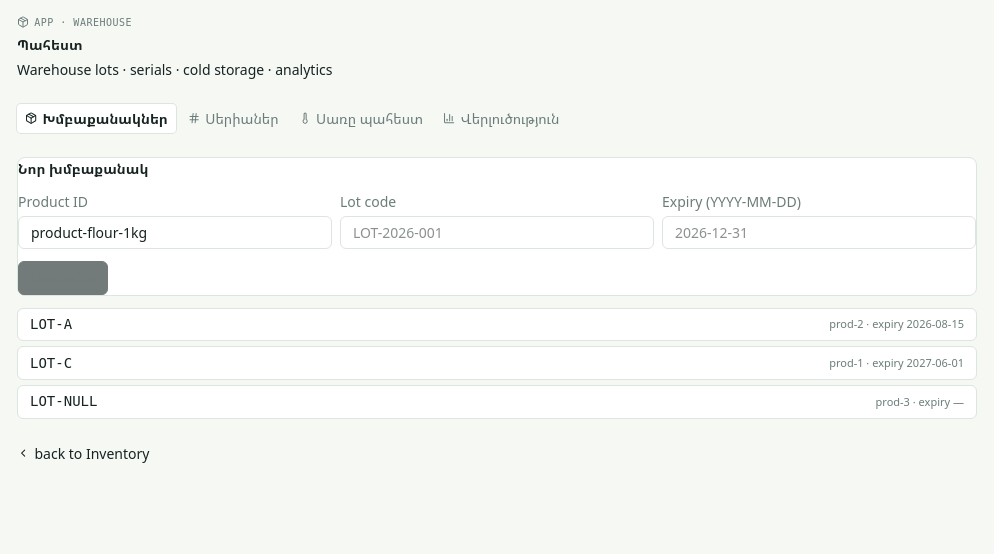
Test: Warehouse — tab strip › switches to the Analytics tab on click
Click the tab with test id "warehouse-tab-analytics": (501, 118) x1=435 y1=104 x2=567 y2=132
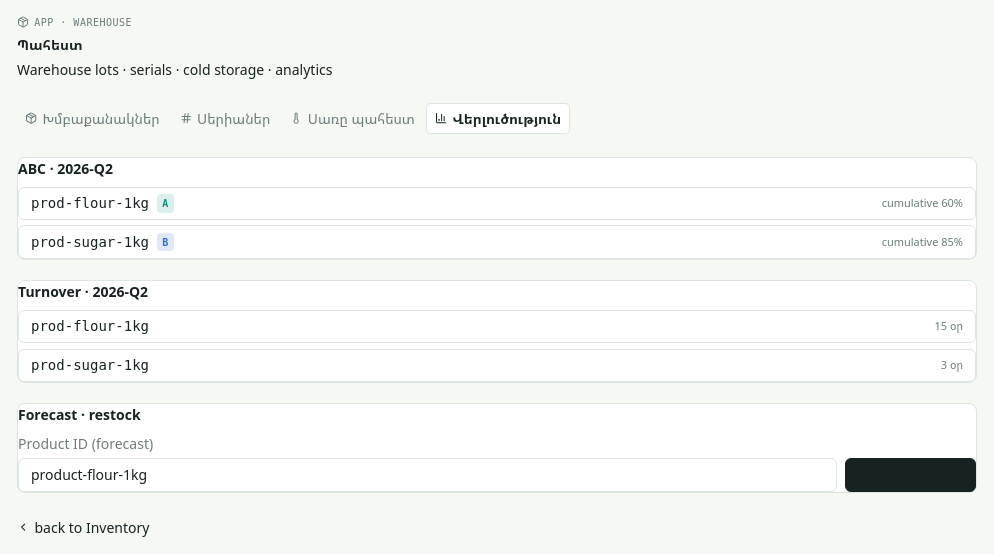
Expected: the list with test id "warehouse-abc" is shown, x1=18 y1=186 x2=976 y2=259
Expected: the list with test id "warehouse-turnover" is shown, x1=18 y1=310 x2=976 y2=382
Expected: the form with test id "warehouse-forecast-form" is shown, x1=18 y1=433 x2=976 y2=492
